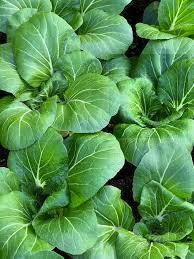Healthy-Pechay: (1, 1, 125, 258), (129, 5, 194, 259)
